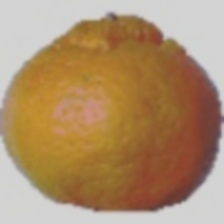tangerine: (21, 16, 184, 180)
